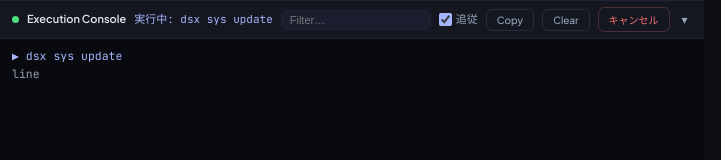
Test: LogConsole — 絞り込み・コピー・クリア › Clear でログを消す
Click the button "Clear" at (566, 20), box [542,8,590,30]
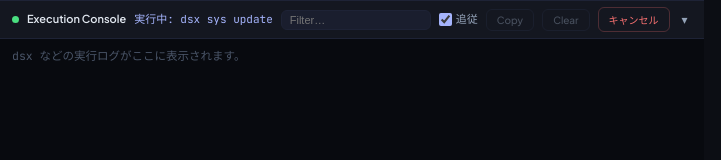
Result: the text "dsx などの実行ログがここに表示されます。" is shown at [12,48,246,63]
